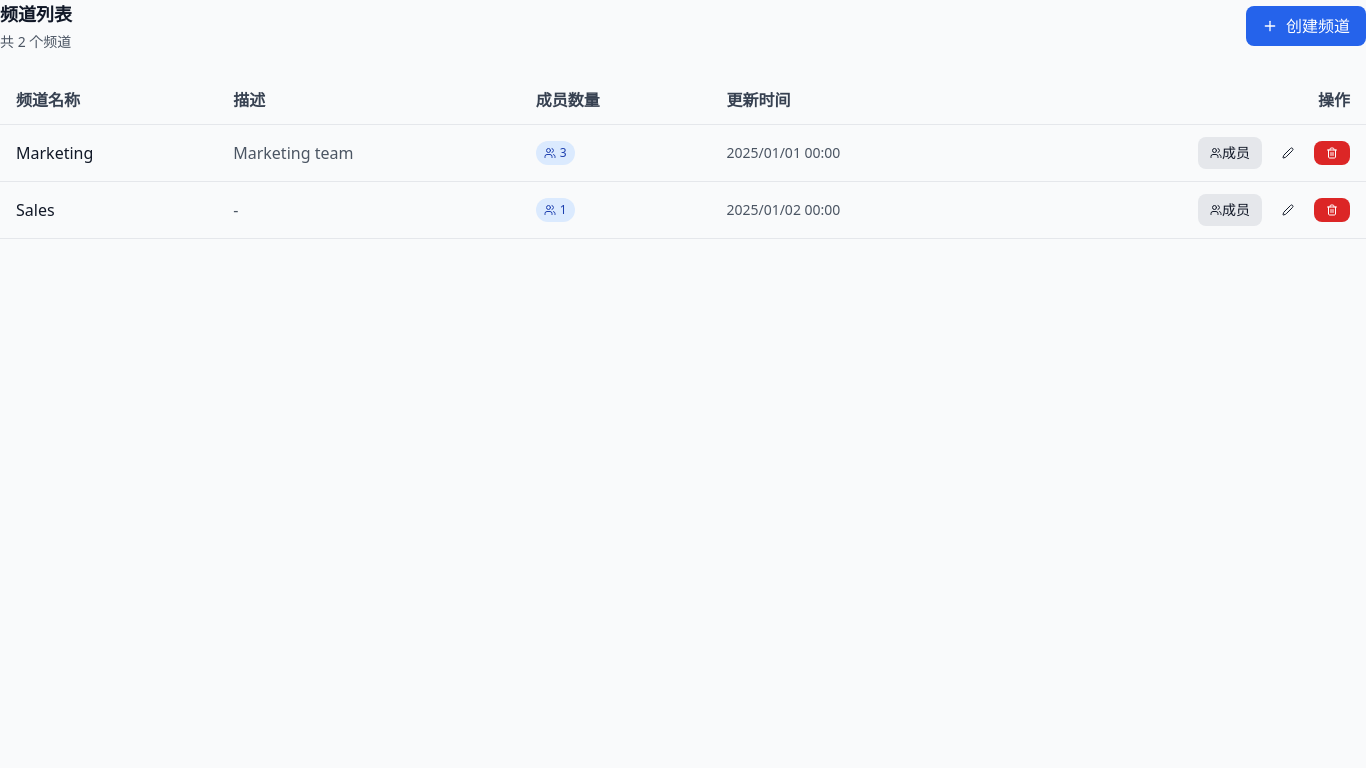
Test case: ChannelManagementTab › Delete Channel › 削除確認ダイアログが表示される
expect the text "Marketing" is shown: met, box [16,142,93,164]
Click the 4th button: (1332, 153) [1314,141,1350,165]
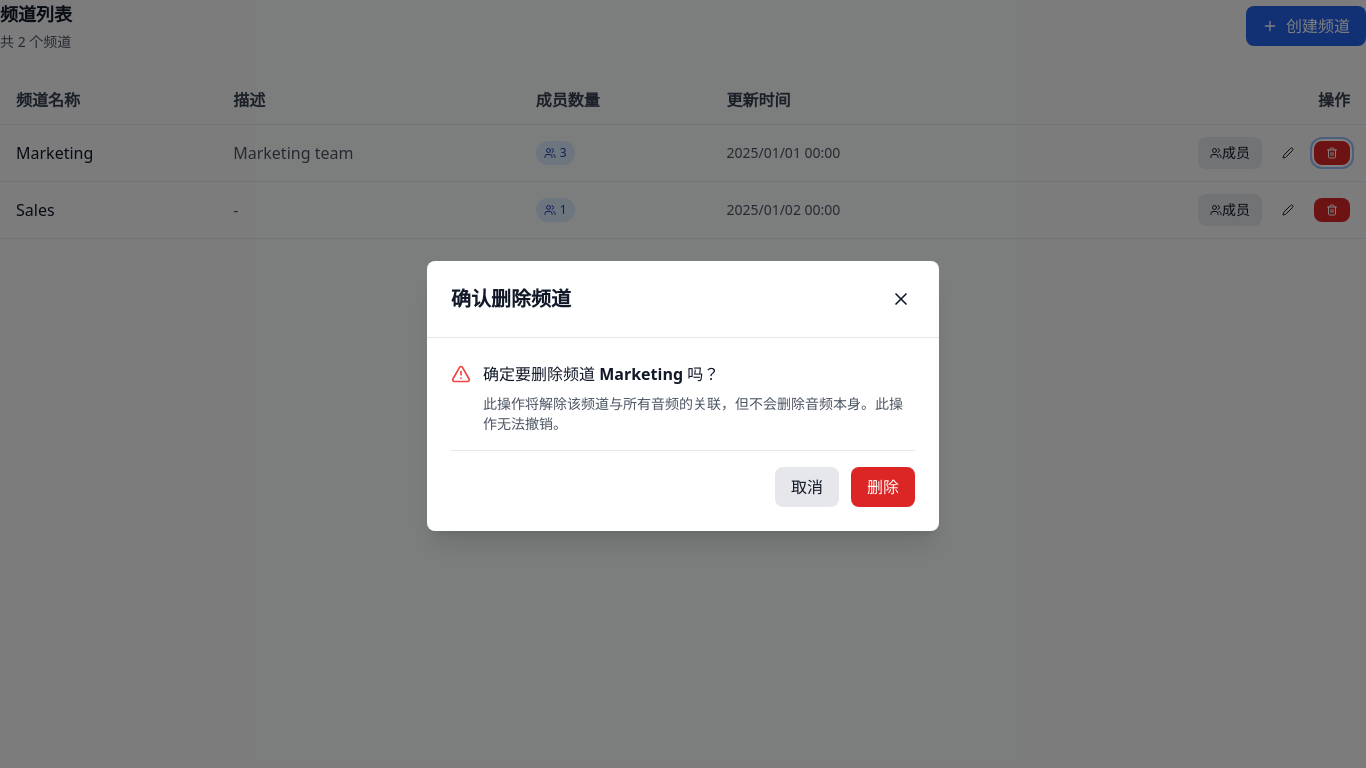
expect the heading "确认删除频道" is shown: met, box [451,285,571,313]
